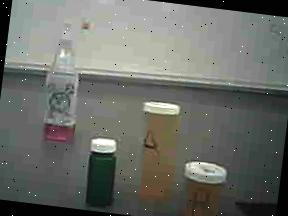Bottle A: (129, 97, 186, 208)
Bottle B: (176, 157, 228, 216)
Bottle C: (80, 133, 126, 213)
hazard: (34, 15, 96, 152)
